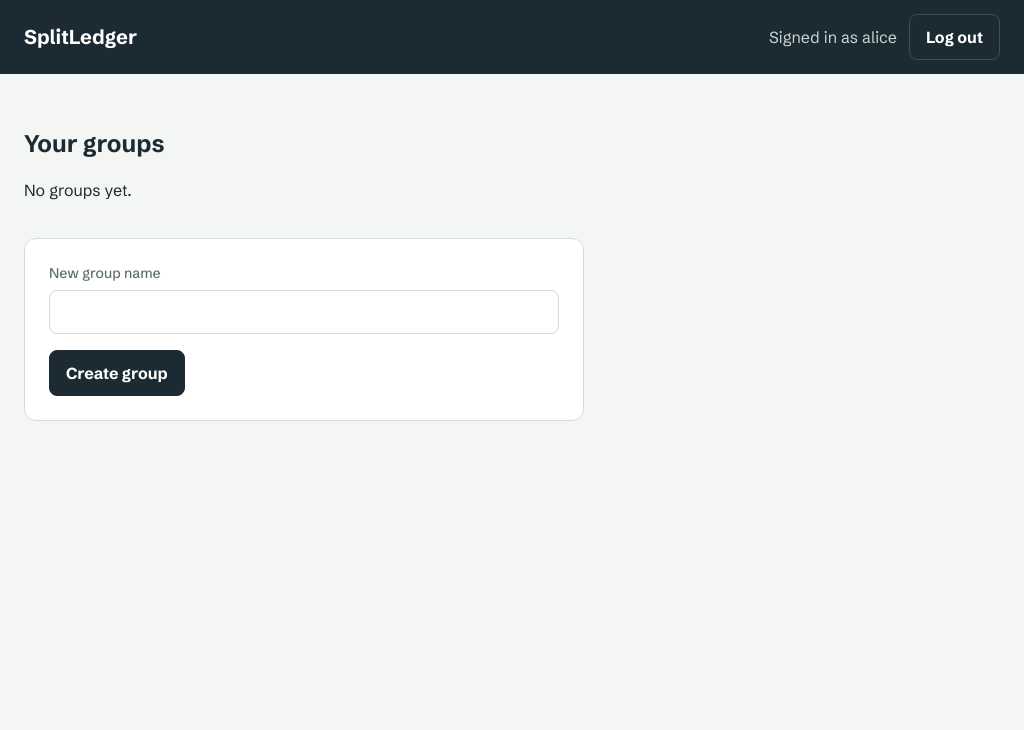
GroupsPage › creates a group and opens it
Expected: the text "No groups yet." is shown, [24,180,132,200]
Type "Ski" into the field labelled "New group name" at point(304, 312), box [49,290,559,334]
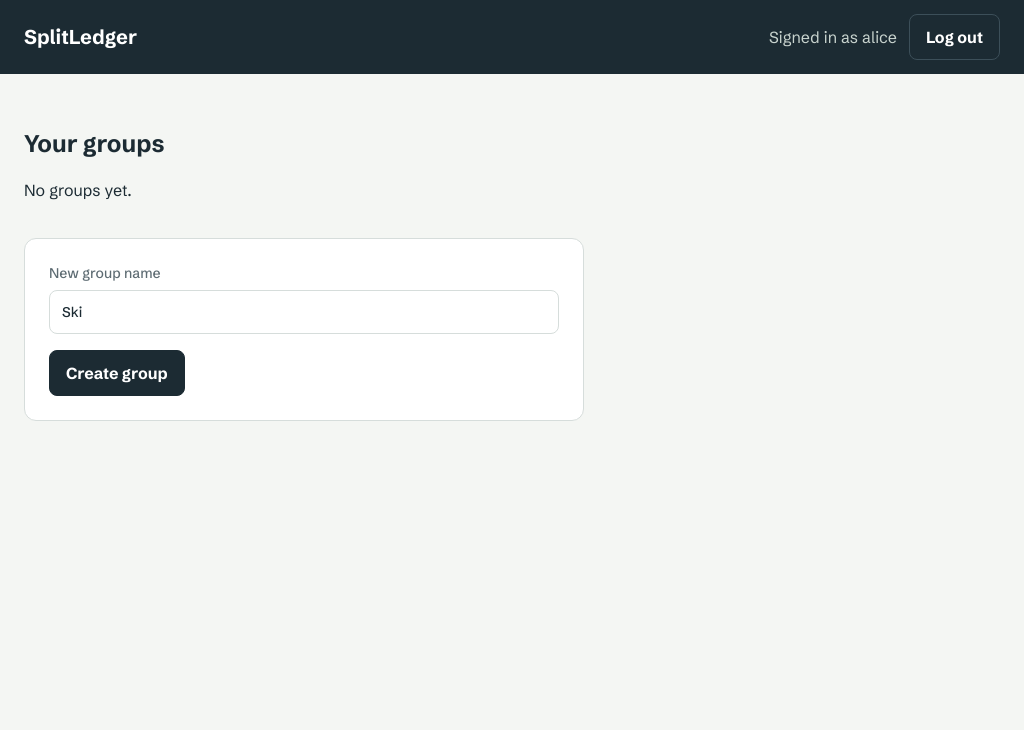
Click the button "Create group" at point(117, 373), box [49,350,185,396]
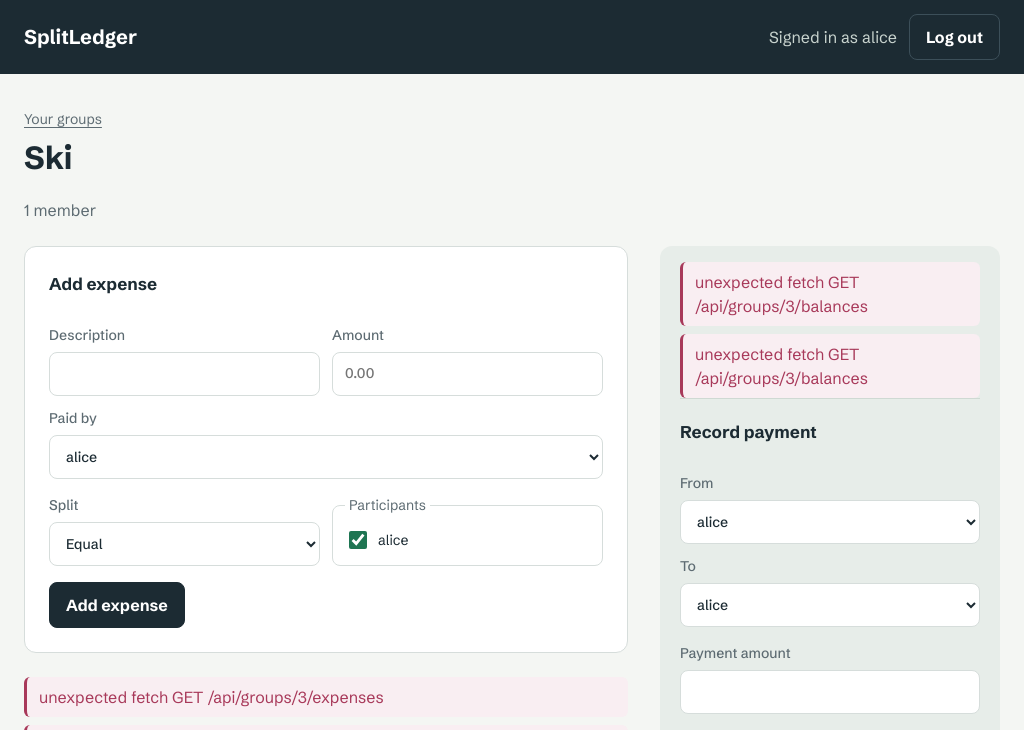
Expected: the heading "Ski" is shown, [24,138,72,177]
